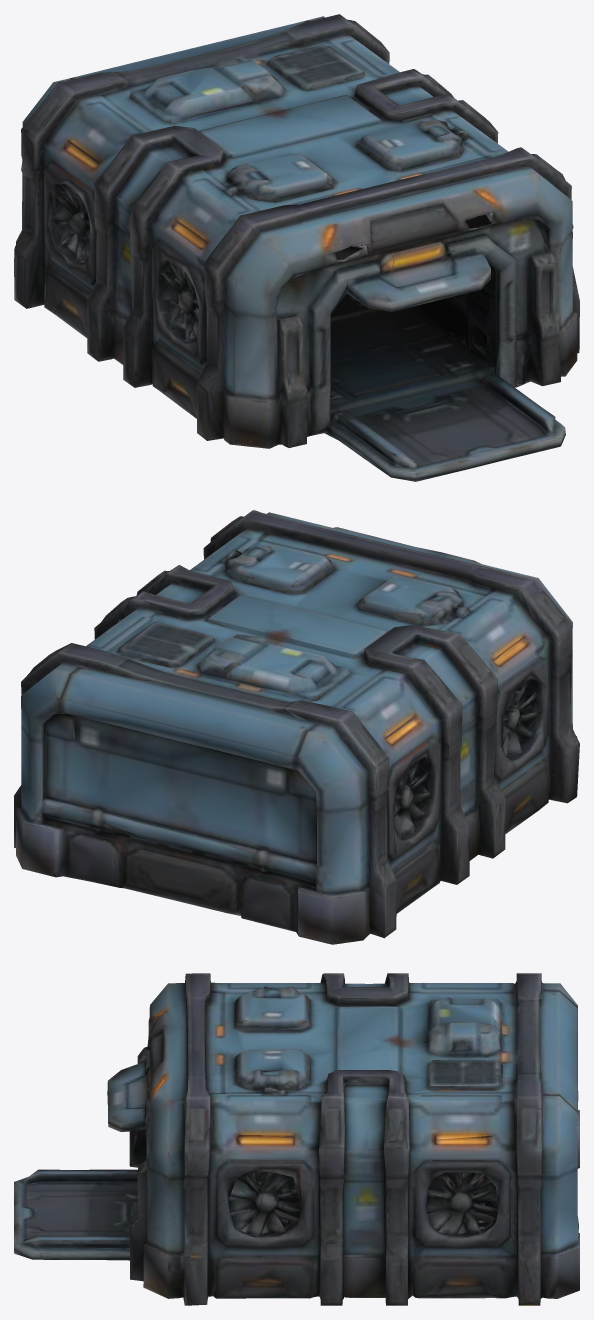
The model's file is supply_cache.glb.
3 renders of one model, top to bottom at view 1: azimuth 30°, elevation 25°; view 2: azimuth 150°, elevation 25°; view 3: azimuth 270°, elevation 25°, orthographic. The views are drawn at different scales.
Parts seen in each view (by area): view 1: Mesh1.0; view 2: Mesh1.0; view 3: Mesh1.0.
Part boxes in pixels (box(x1,y1,x2,y2)): Mesh1.0: box(14, 14, 579, 481); Mesh1.0: box(14, 510, 579, 944); Mesh1.0: box(14, 973, 579, 1305).
Bounding box in the file's own units: 1.32 × 0.7321 × 1.91.
Materials: 1 (1 with a texture image).
